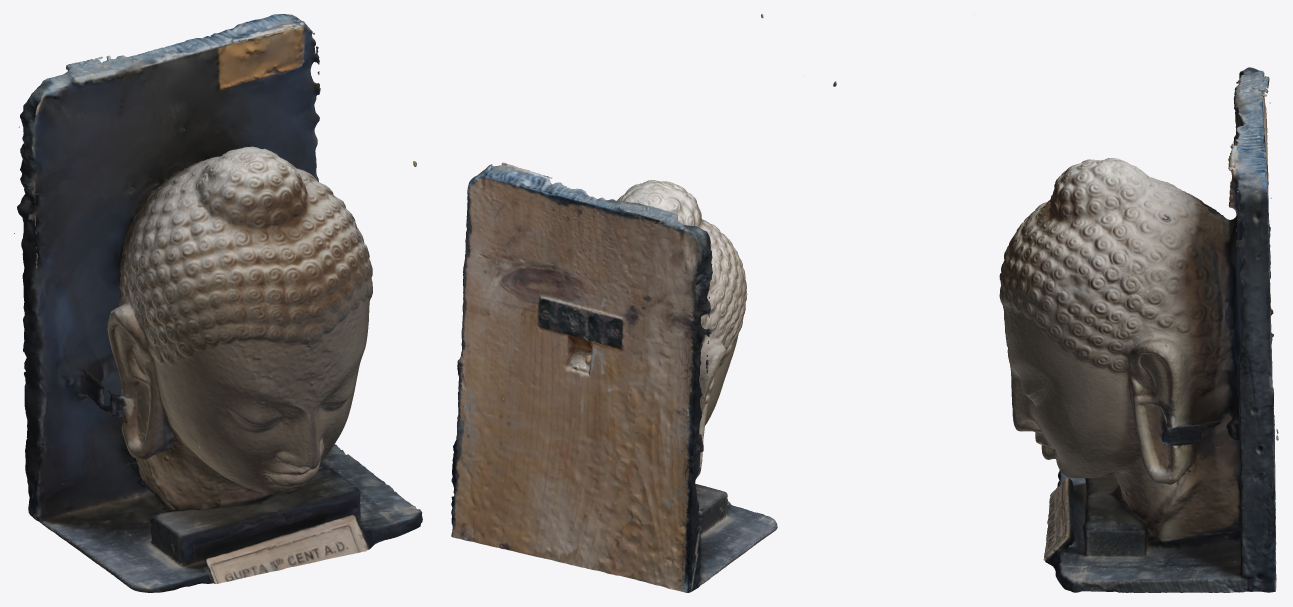
File: compressed_buddha_wagb5HU.glb
3 views of the same model, side by side, from view 1: azimuth 30°, elevation 25°; view 2: azimuth 150°, elevation 25°; view 3: azimuth 270°, elevation 25° (orthographic). The views are drawn at different scales.
Visible parts, largest first — view 1: 3DModel; view 2: 3DModel; view 3: 3DModel.
Boxes of the visible parts, x1,y1,x2,y2 form: 3DModel: (14,14,422,592); 3DModel: (451,14,777,592); 3DModel: (833,67,1278,592).
Size of the model in its own units: 12.49 by 19.69 by 17.27.
Materials: 1 (1 with a texture image).
